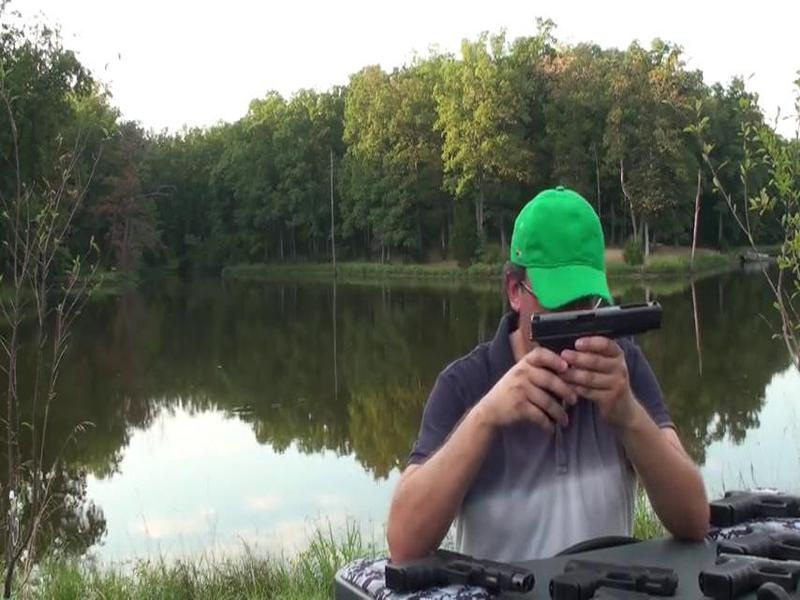Pistola: (528, 287, 669, 408)
